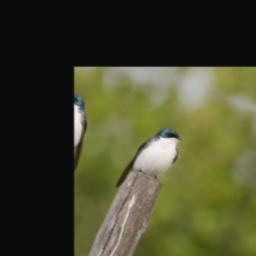Swallow: (114, 115, 190, 204)
